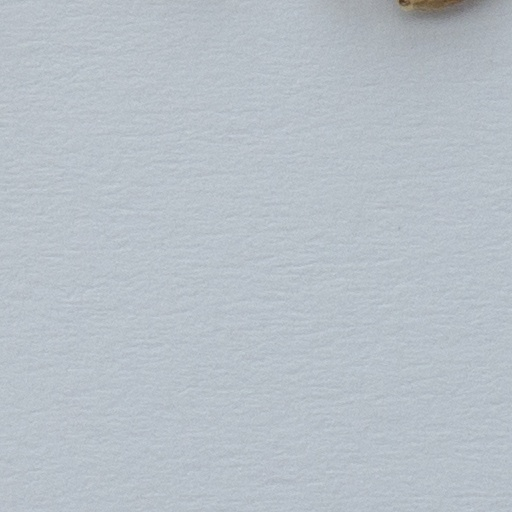Wheat-grain: (397, 0, 473, 14)
